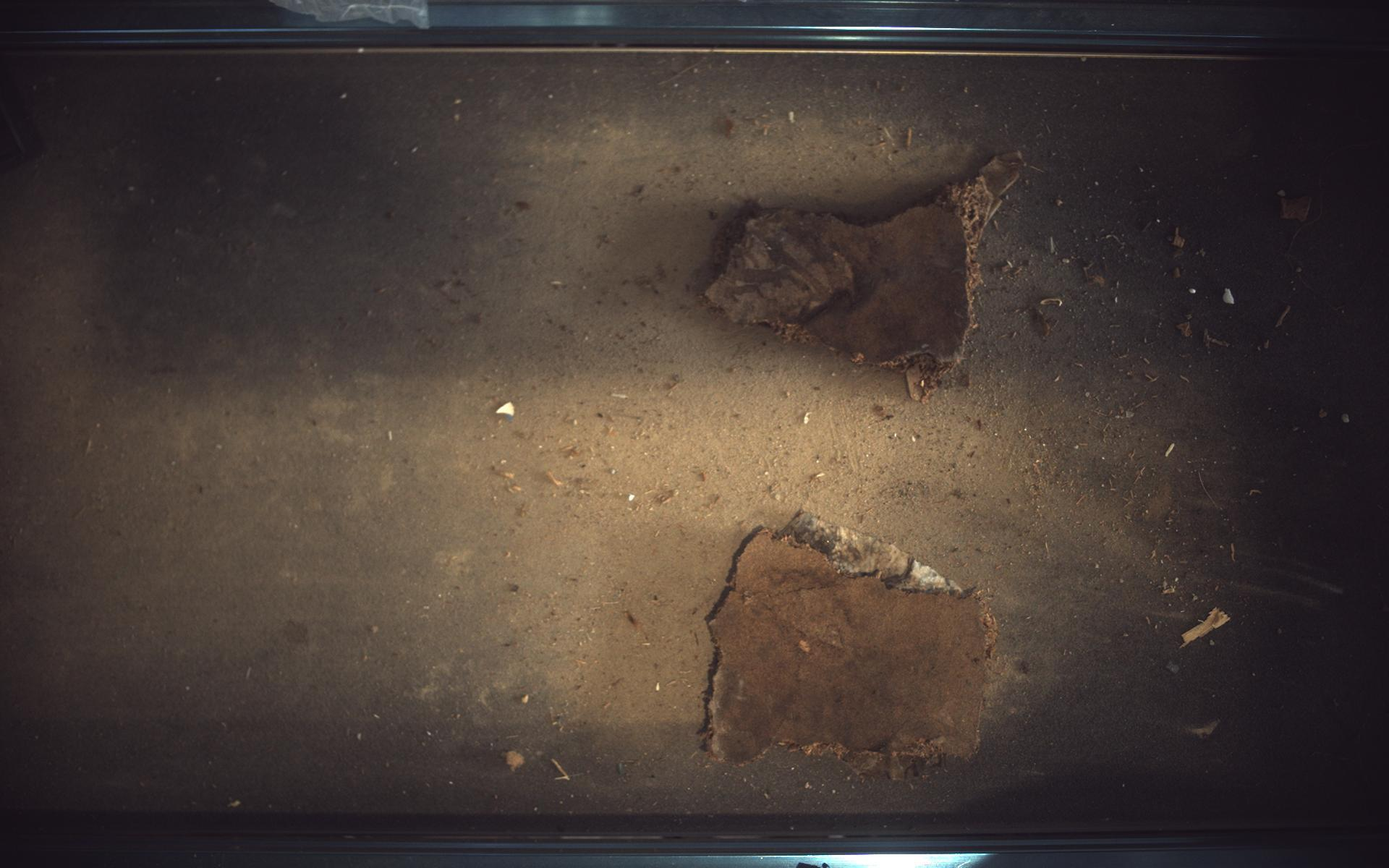wood: (707, 150, 1025, 399), (706, 512, 998, 780)
